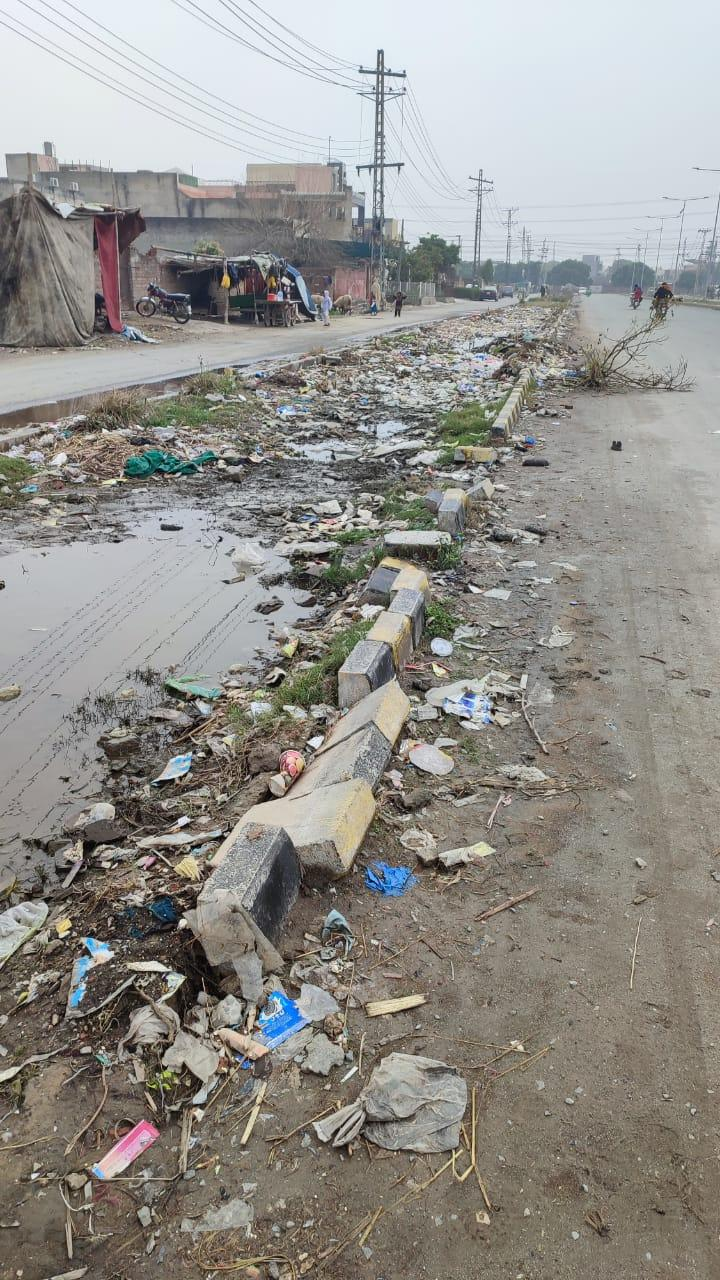garbage: (184, 318, 615, 951)
